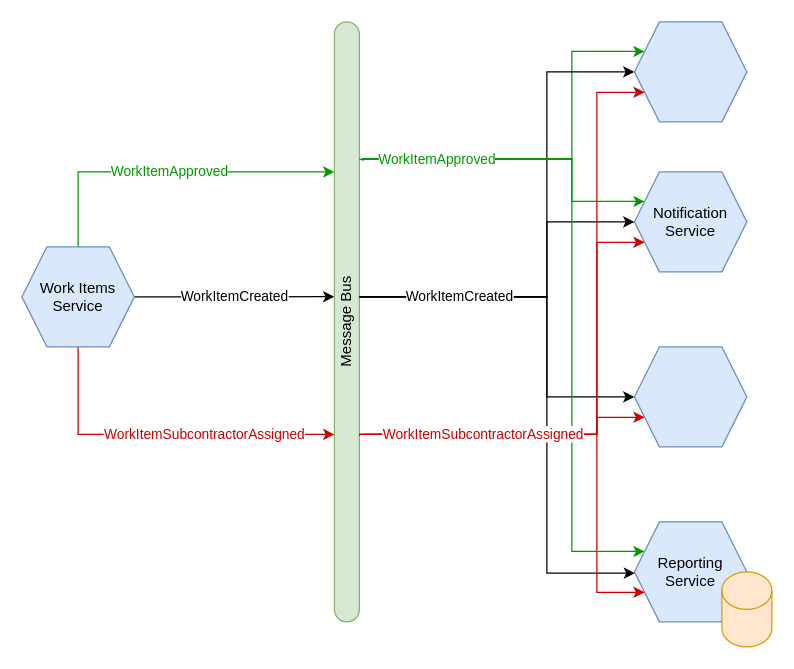
The diagram is 794 pixels wide and 669 high, and some of its shapes have lost their labels. The shapes that lost their labels are listed below. From the top down, each one's centre as x and y in pixels, then its label:
At [690,71]: "Logging Service".
At [690,396]: "Tenant Assignment Service".
